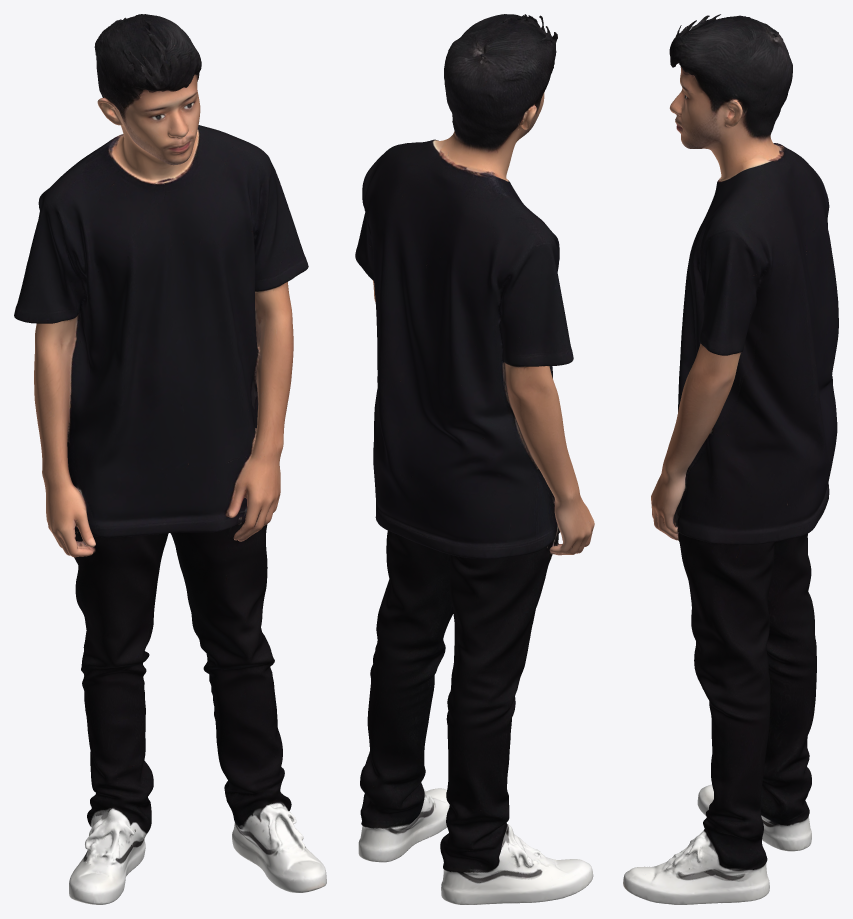
File: Character.glb
3 views of the same model, side by side, from view 1: azimuth 30°, elevation 25°; view 2: azimuth 150°, elevation 25°; view 3: azimuth 270°, elevation 25° (orthographic). The views are drawn at different scales.
Parts seen in each view (by area): view 1: Object_5, Object_6, Object_7; view 2: Object_6, Object_5, Object_7; view 3: Object_6, Object_5.
Part boxes in pixels (bbox=[...]): Object_5: bbox=[50, 14, 326, 904]; Object_6: bbox=[14, 14, 299, 904]; Object_7: bbox=[47, 35, 247, 904]; Object_6: bbox=[358, 20, 592, 904]; Object_5: bbox=[355, 14, 594, 901]; Object_7: bbox=[362, 43, 592, 875]; Object_6: bbox=[701, 18, 838, 902]; Object_5: bbox=[623, 14, 779, 904].
Bounding box in the file's own units: 0.5844 × 1.9 × 0.4514.
Materials: 1 (1 with a texture image).
